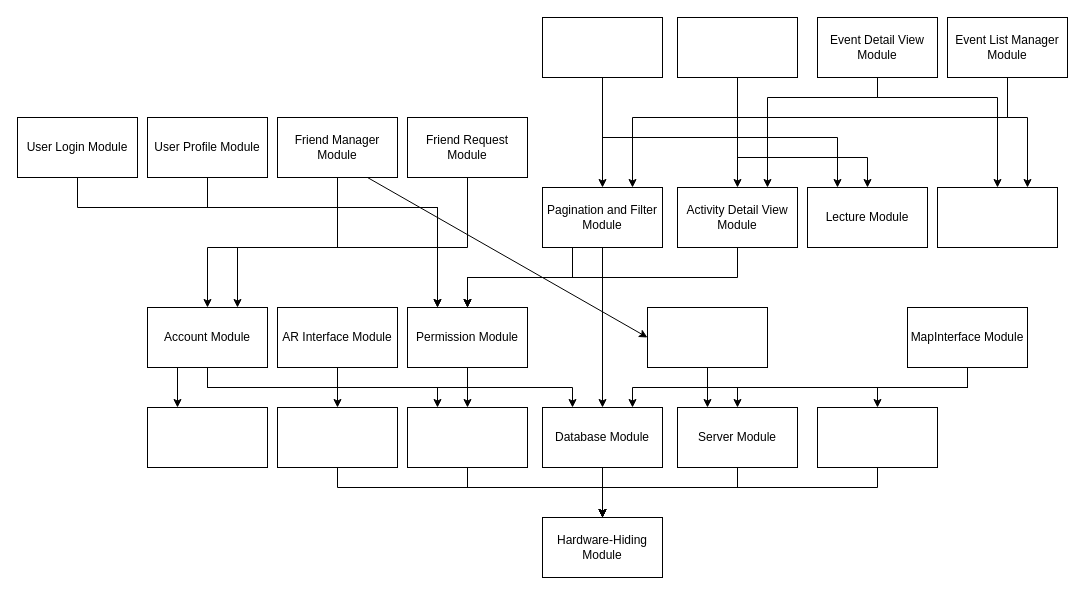
The diagram is 1085 pixels wide and 595 high, and some of its shapes have lost their labels. Each missing label, with the centre of its shape:
AR Camera Module: the point at 337,437
Authentication Module: the point at 467,437
Chat Module: the point at 707,337
Event Module: the point at 997,217
Lecture Detail View Module: the point at 737,47
Lecture List Manager Module: the point at 602,47
MapBox Module: the point at 877,437
User Module: the point at 207,437
